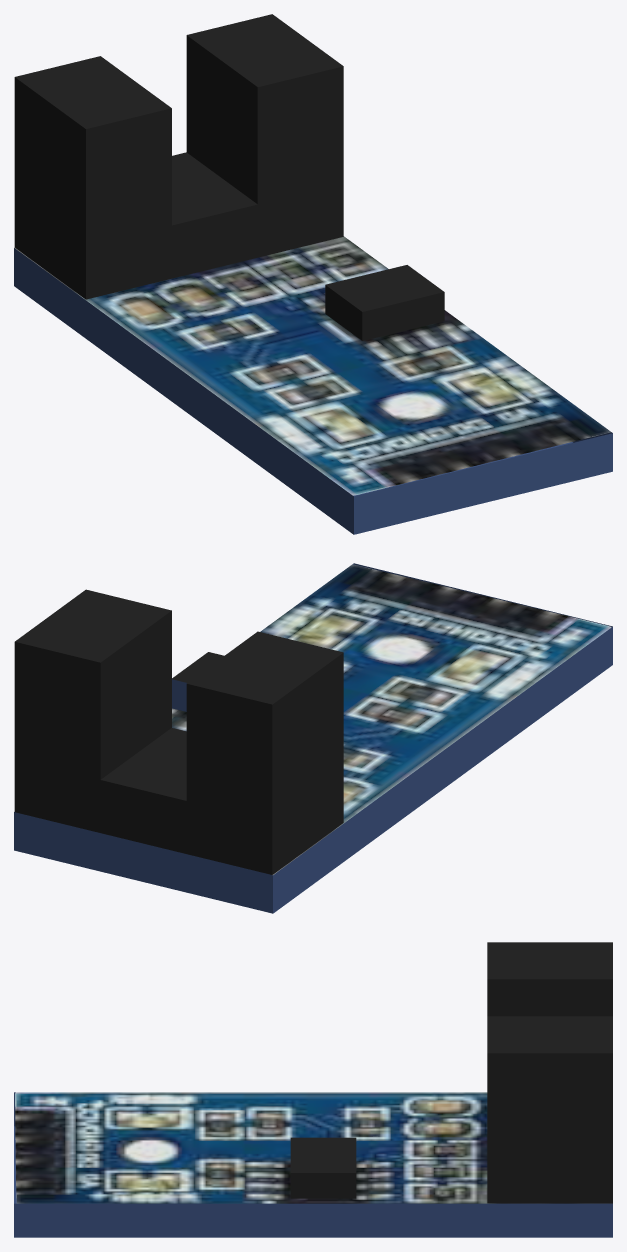
The model's file is Encoder.fbx.
3 views of the same model, one above another, from view 1: azimuth 30°, elevation 25°; view 2: azimuth 150°, elevation 25°; view 3: azimuth 270°, elevation 25° (orthographic). The views are drawn at different scales.
Parts seen in each view (by area): view 1: Cube.001; view 2: Cube.001; view 3: Cube.001.
Part boxes in pixels (x1,y1,x2,y2): Cube.001: [14, 14, 612, 534]; Cube.001: [14, 563, 612, 913]; Cube.001: [14, 942, 612, 1237].
Bounding box in the file's own units: 141 × 109 × 320.
Materials: 3 (1 with a texture image).
